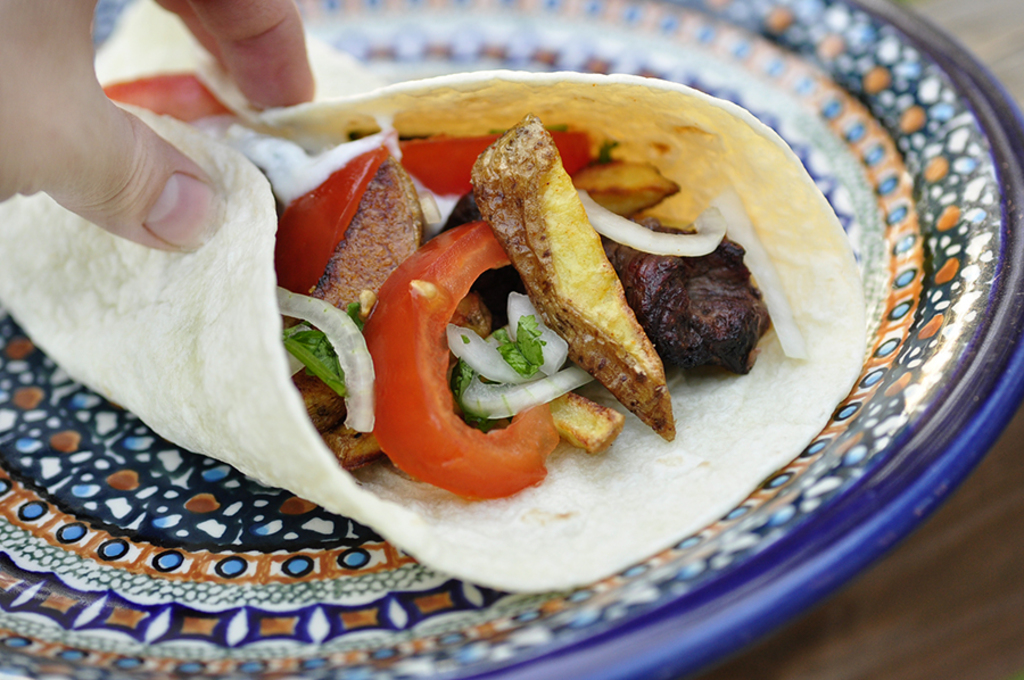taco: (157, 25, 909, 602)
